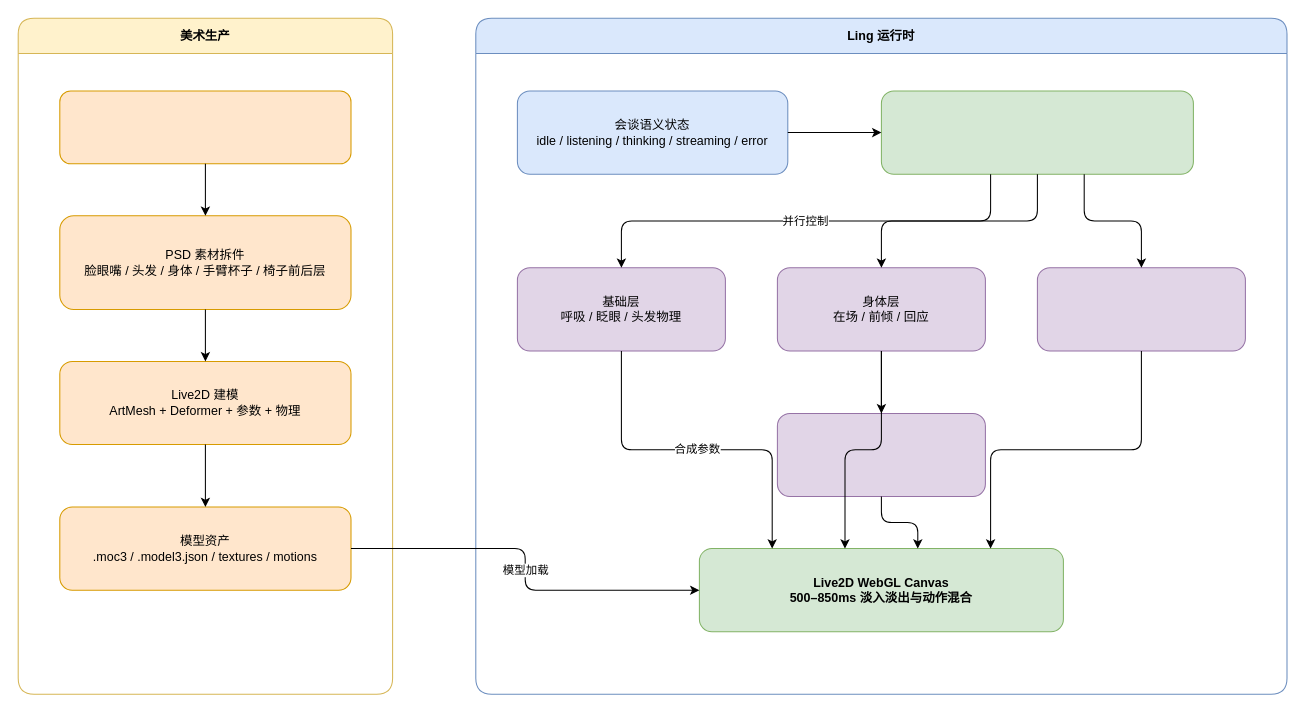
Some shapes in this 1305 by 712 pixel diagram are drawn without their labels. The shapes that lost their labels are listed below. From the top down, each one's centre as x and y in pixels, then its label:
At pixel 205 127: "身份锁定母图 正脸看用户 / 身体与腿朝左".
At pixel 1036 132: "Portrait Motion Controller 只接收语义状态".
At pixel 1140 309: "说话层 文本节奏 → 嘴巴开合".
At pixel 880 454: "手部层 独立短动作 → 回到持杯".
